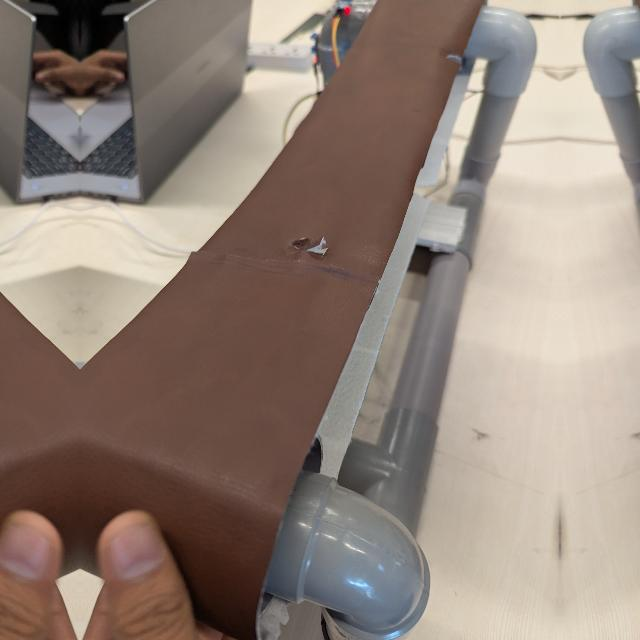joint_damage: (290, 224, 360, 271)
